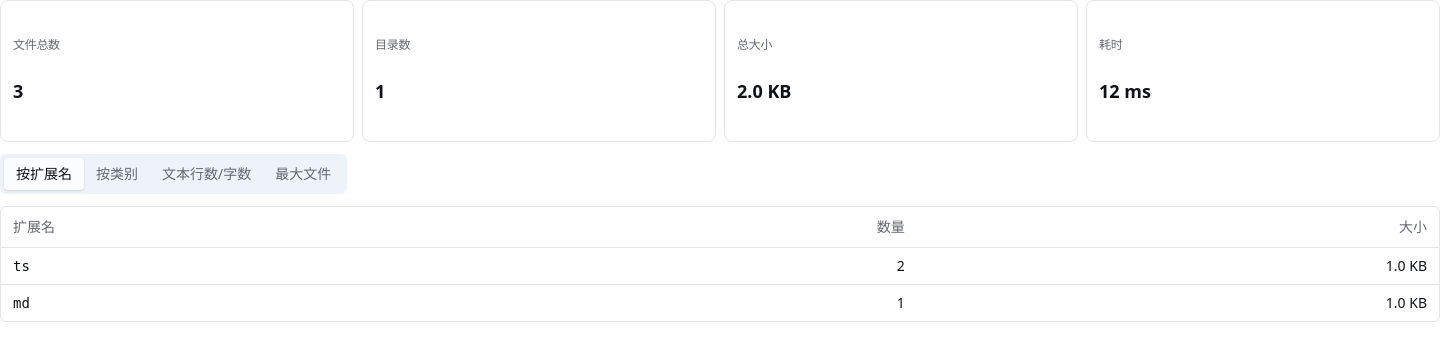
ScanResultsPanel › switches to category table via shadcn tab
The image size is (1440, 339).
Click the tab with test id "scan-tab-category": coordinates (117, 174) [84,158,150,190]
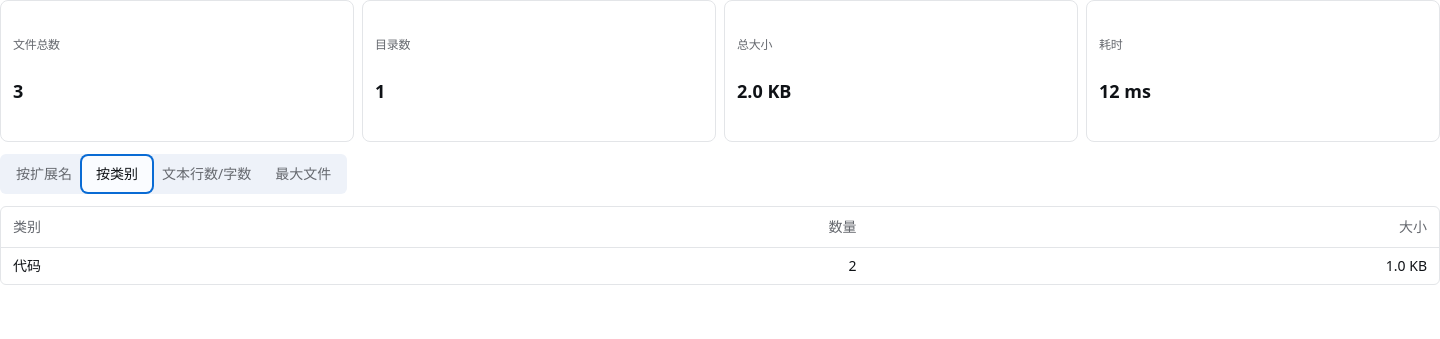
Now the row with test id "scan-cat-row-code" is shown, box [1,247,1439,284]
